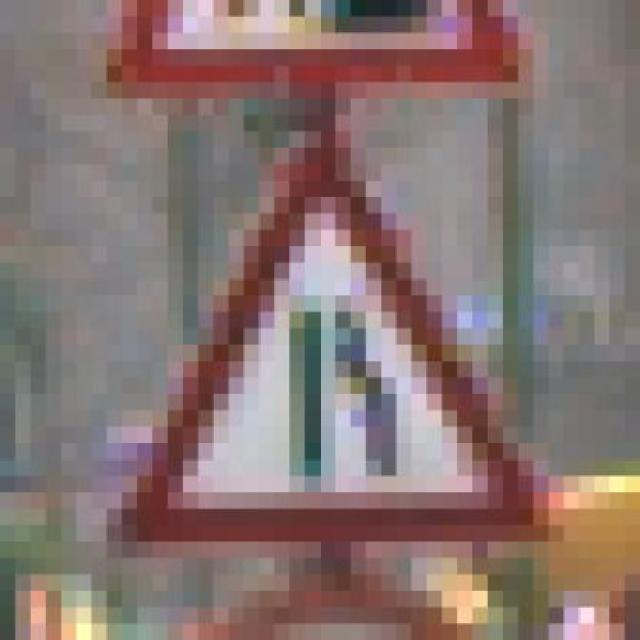-Road narrows on right: (91, 115, 564, 558)
